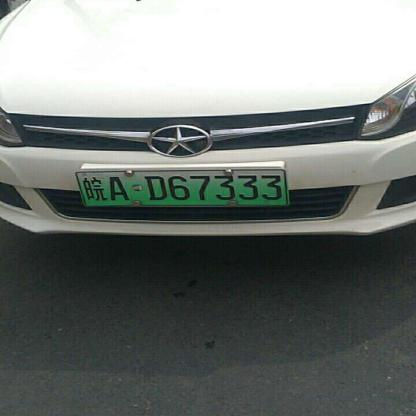lp: (76, 170, 286, 204)
